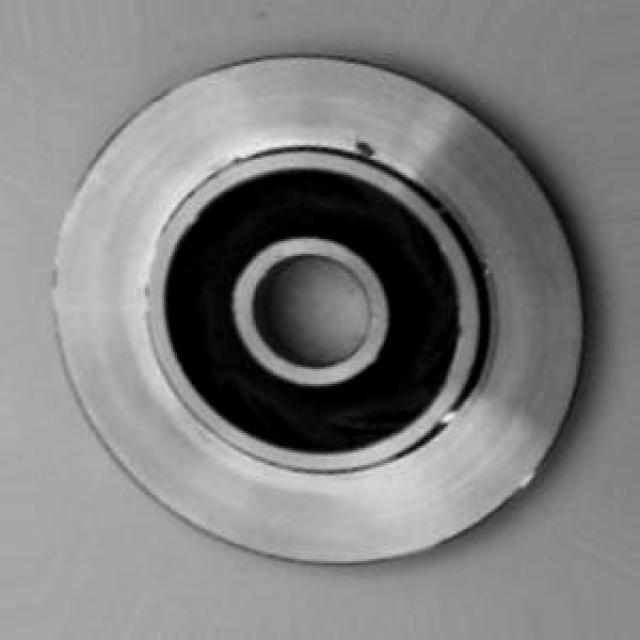Defect: (352, 129, 386, 171)
